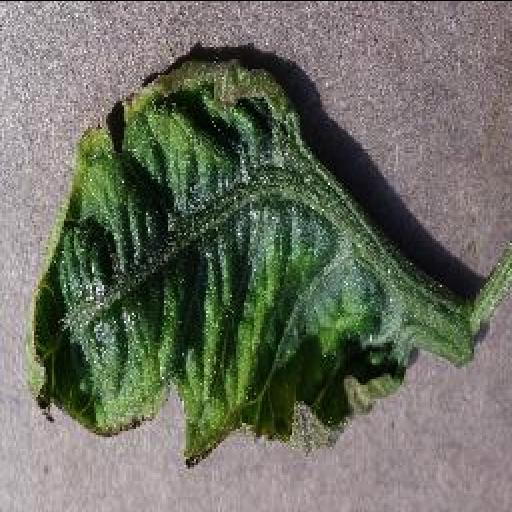disease_tomato: (30, 54, 412, 466)
